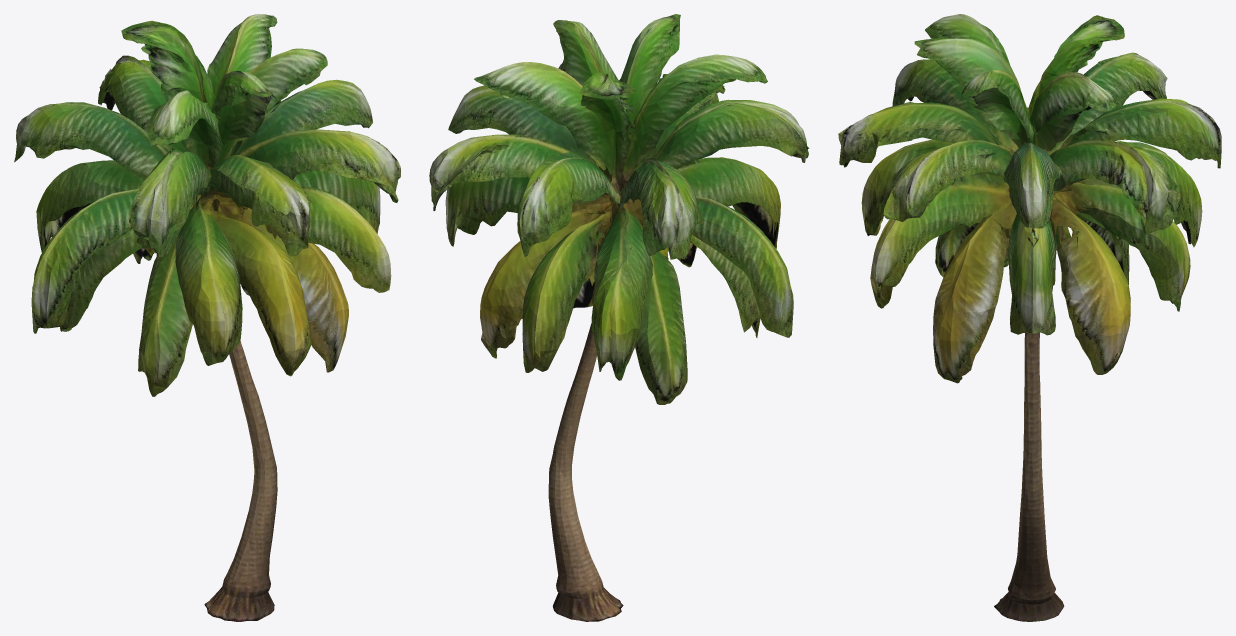
File: prop_palm.glb
The picture shows the model from 3 angles, left to right: view 1: azimuth 30°, elevation 25°; view 2: azimuth 150°, elevation 25°; view 3: azimuth 270°, elevation 25°; orthographic projection. The views are drawn at different scales.
Parts seen in each view (by area): view 1: world; view 2: world; view 3: world.
Boxes of the visible parts, x1,y1,x2,y2 form: world: (14, 14, 400, 621); world: (429, 14, 809, 621); world: (838, 14, 1221, 621).
Size of the model in its own units: 0.6442 by 1 by 0.6251.
Materials: 1 (1 with a texture image).
